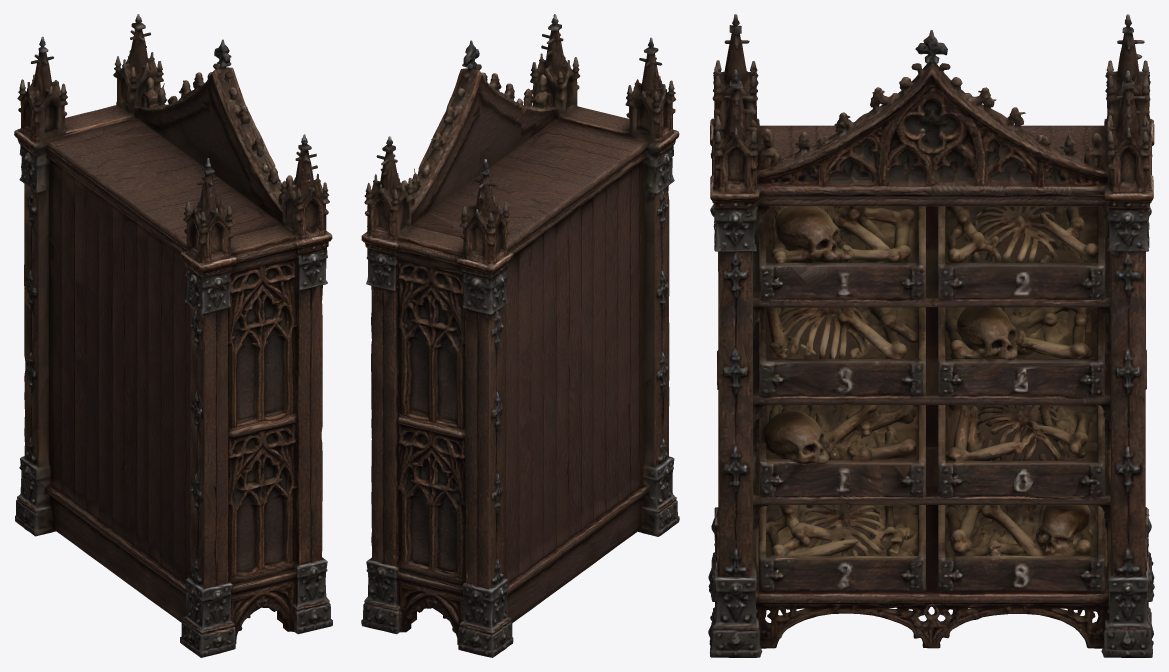
The model's file is raw_shelf_trays.glb.
The picture shows the model from 3 angles, left to right: view 1: azimuth 30°, elevation 25°; view 2: azimuth 150°, elevation 25°; view 3: azimuth 270°, elevation 25°; orthographic projection. The views are drawn at different scales.
Parts seen in each view (by area): view 1: shelf_trays; view 2: shelf_trays; view 3: shelf_trays.
Part boxes in pixels (box(x1,y1,x2,y2)): shelf_trays: box(14, 14, 332, 657); shelf_trays: box(361, 14, 679, 657); shelf_trays: box(708, 14, 1154, 657).
Bounding box in the file's own units: 0.2719 × 0.9998 × 0.6543.
1 material, 1 textured.
